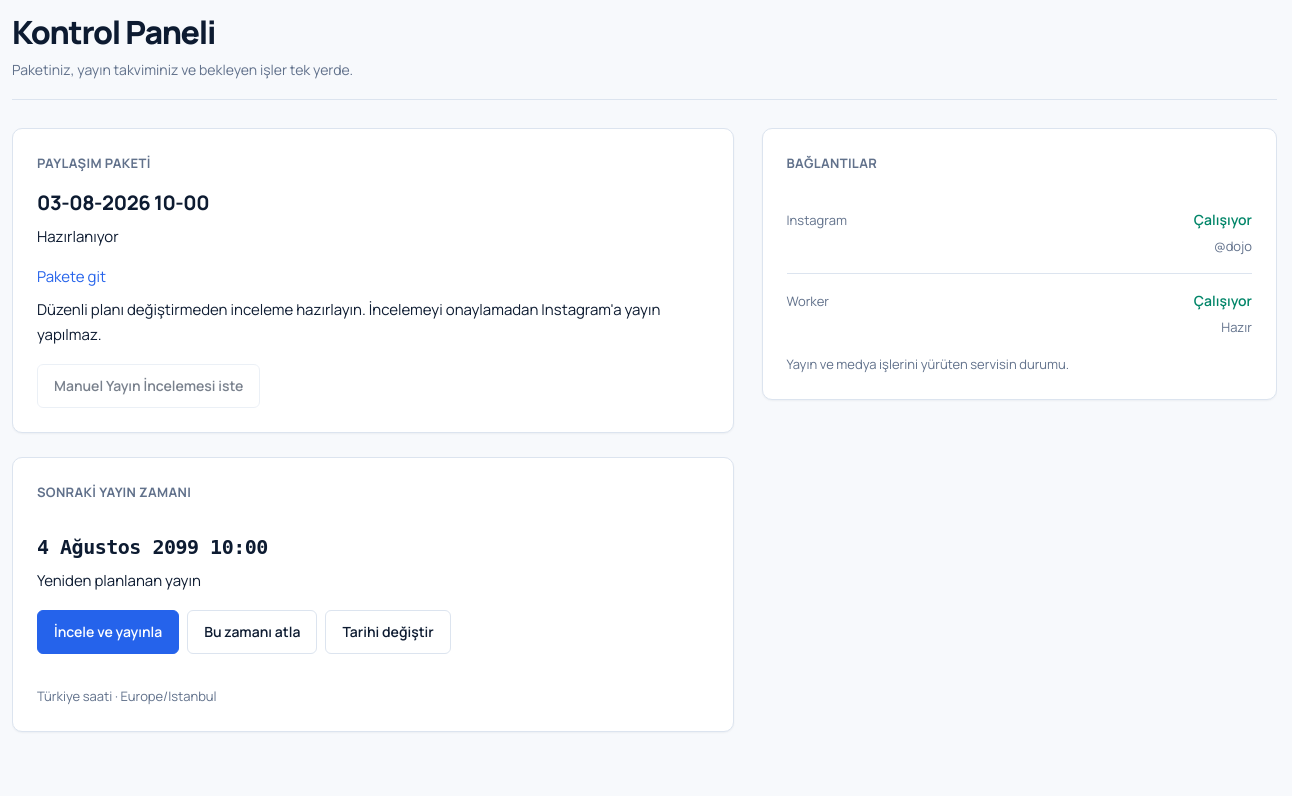
it: confirms a future oneoff skip without requesting review or publishing
Click the button "Bu zamanı atla": (252, 632) [187,610,317,654]
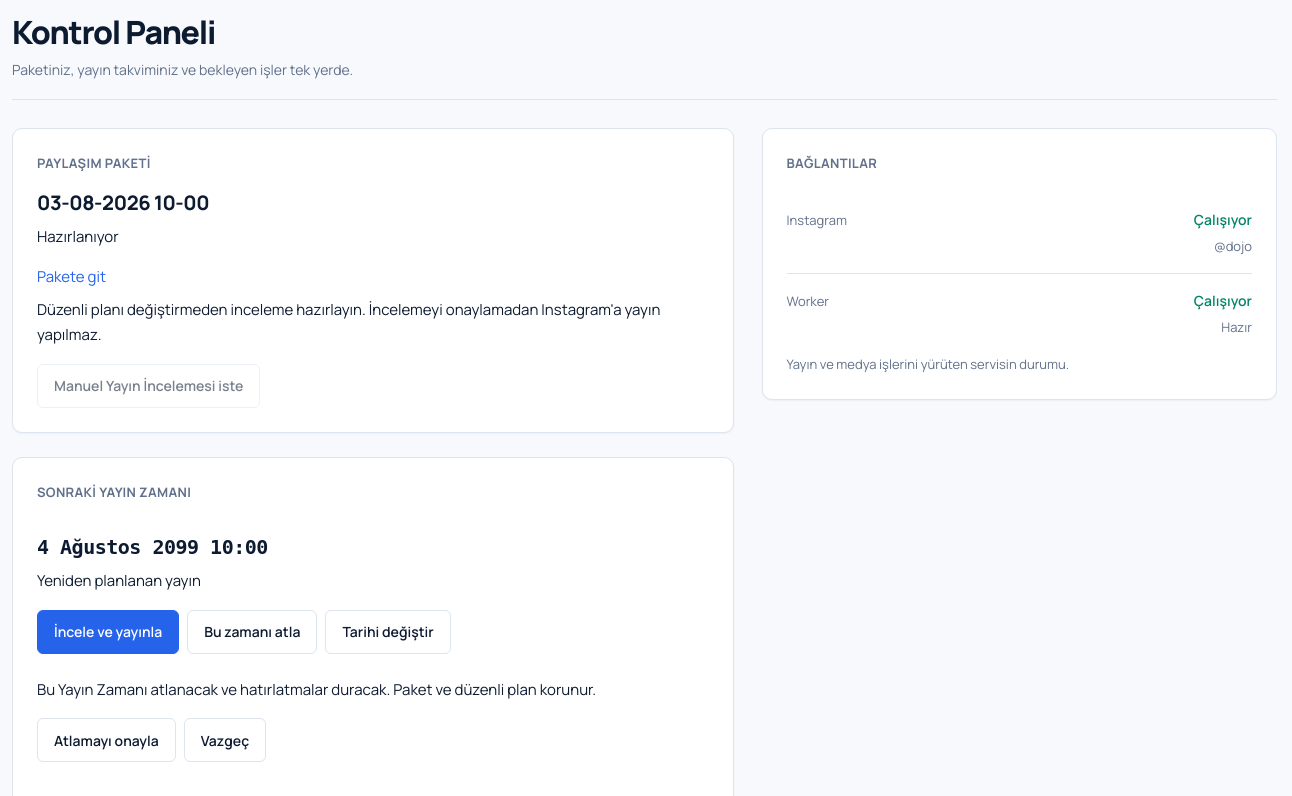
Click the button "Atlamayı onayla": (106, 740) [37,718,176,762]
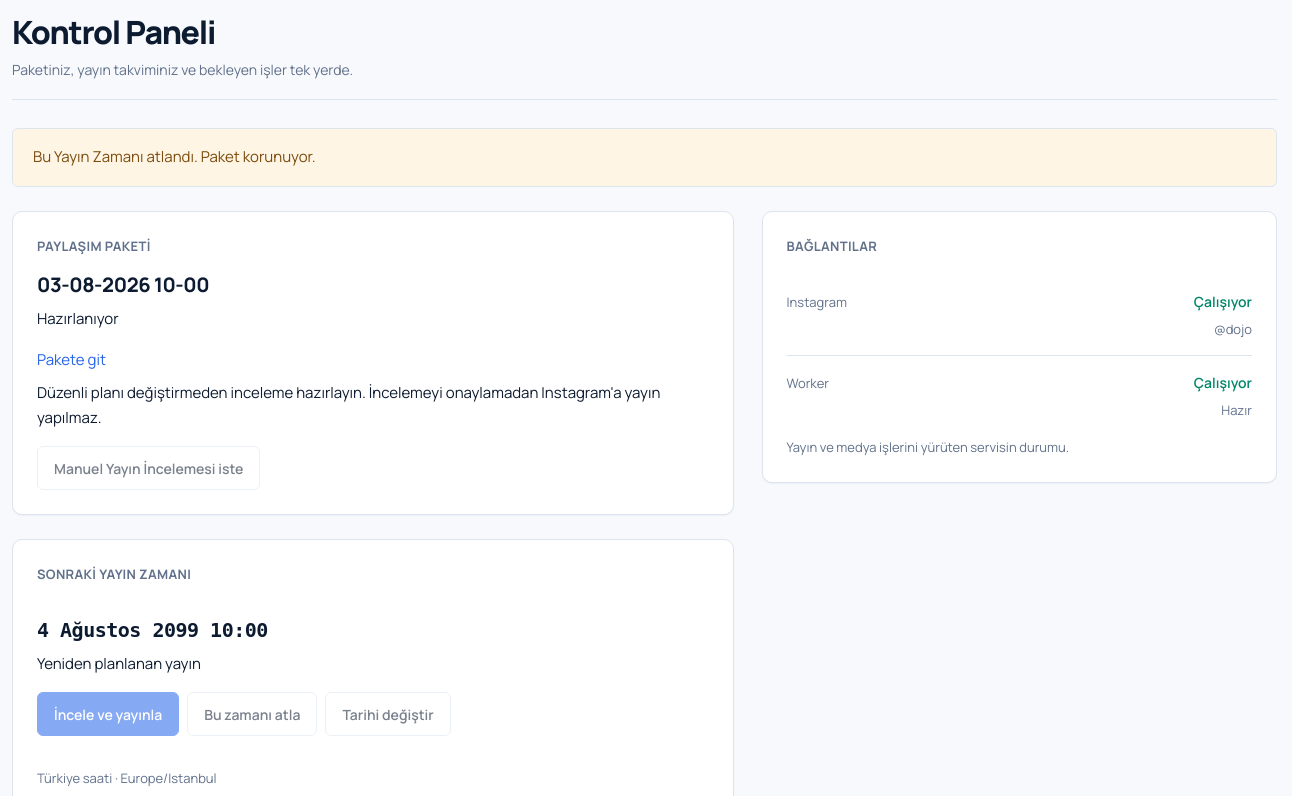
expect the text "Bu Yayın Zamanı atlandı. Paket korunuyor." is shown: met, box [12,128,1277,187]
